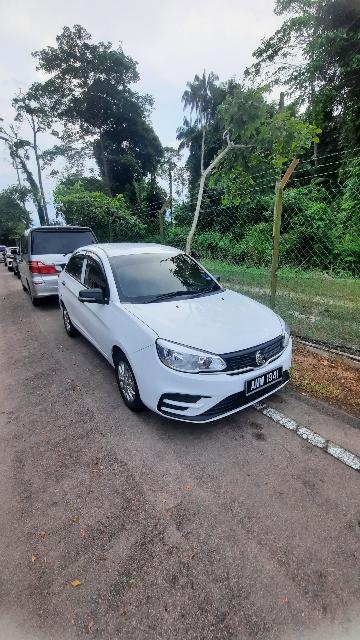License_Plate: (243, 360, 292, 404)
car: (58, 236, 297, 428)
